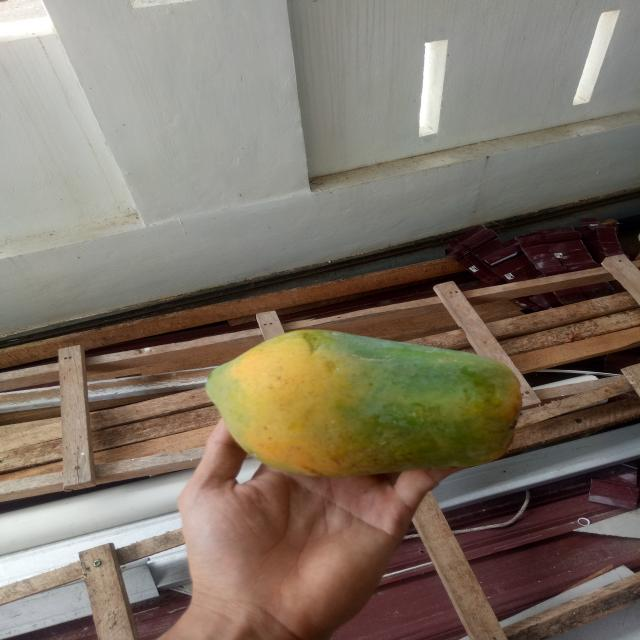Pepaya rippen: (195, 328, 522, 491)
